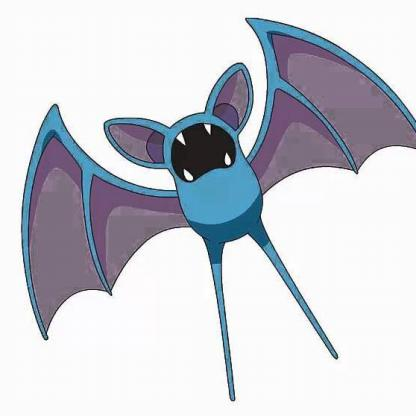Zubat: (1, 16, 416, 400)
